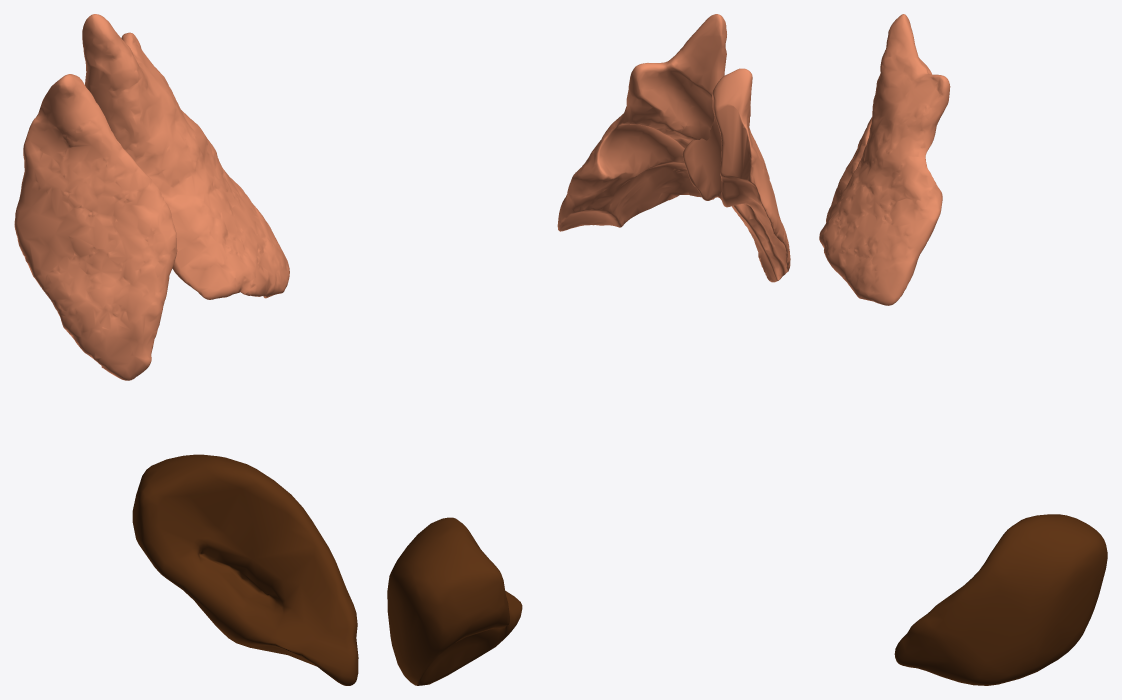
Rendered from lymphatic.glb.
3 renders of one model, left to right at view 1: azimuth 30°, elevation 25°; view 2: azimuth 150°, elevation 25°; view 3: azimuth 270°, elevation 25°, orthographic. The views are drawn at different scales.
Visible parts, largest first — view 1: Right lobe of thymus, Spleen.001, Left lobe of thymus; view 2: Left lobe of thymus, Spleen.001, Right lobe of thymus; view 3: Spleen.001, Left lobe of thymus, Right lobe of thymus.
Boxes of the visible parts, left/top/right/bottom form: Right lobe of thymus: left=14, top=74, right=177, bottom=380; Spleen.001: left=132, top=454, right=358, bottom=685; Left lobe of thymus: left=82, top=14, right=289, bottom=299; Left lobe of thymus: left=557, top=14, right=726, bottom=231; Spleen.001: left=387, top=517, right=522, bottom=685; Right lobe of thymus: left=682, top=68, right=790, bottom=282; Spleen.001: left=894, top=514, right=1107, bottom=685; Left lobe of thymus: left=819, top=14, right=950, bottom=305; Right lobe of thymus: left=824, top=58, right=931, bottom=253.
Size of the model in its own units: 0.141 by 0.2804 by 0.1287.
